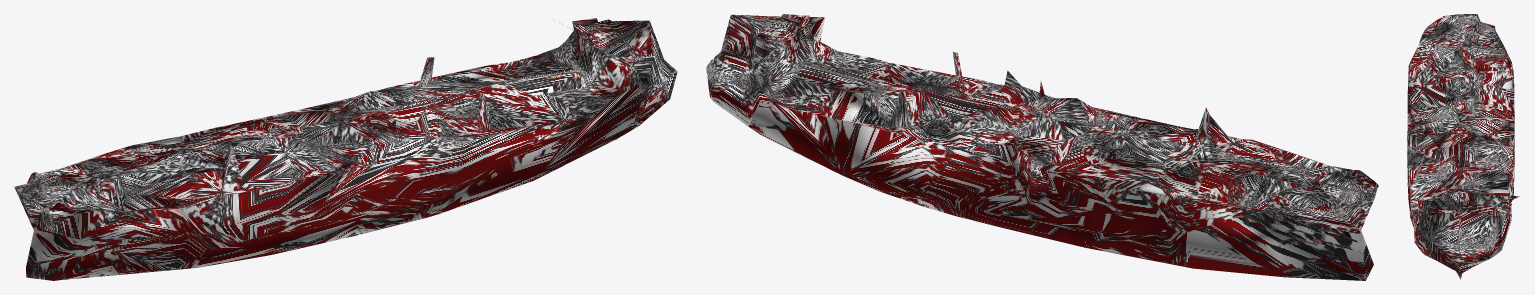
The model's file is vlcc-tanker-meshy-ultra-v1.glb.
3 views of the same model, side by side, from view 1: azimuth 30°, elevation 25°; view 2: azimuth 150°, elevation 25°; view 3: azimuth 270°, elevation 25° (orthographic). The views are drawn at different scales.
Bounding box in the file's own units: 1.88 × 0.3394 × 0.4066.
Materials: 1 (1 with a texture image).
